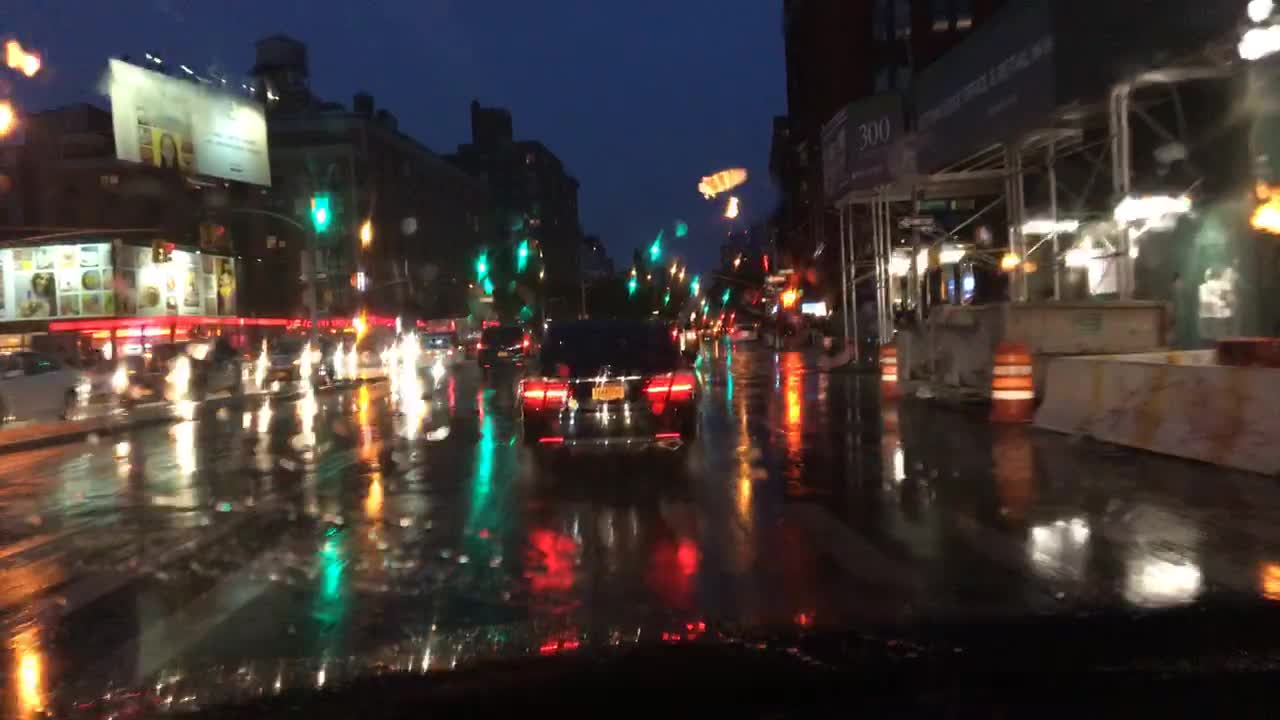car: (517, 320, 703, 472), (0, 347, 93, 421), (140, 343, 242, 403), (254, 332, 340, 381), (72, 358, 136, 409), (476, 325, 538, 373), (344, 334, 413, 369), (413, 332, 467, 366), (668, 322, 700, 353), (726, 322, 758, 343), (463, 333, 483, 361), (699, 323, 721, 342)
traffic light: (311, 194, 328, 229), (209, 221, 224, 249), (198, 223, 207, 250), (516, 243, 528, 263), (161, 242, 173, 261), (475, 255, 486, 274), (151, 239, 160, 262), (675, 222, 686, 235), (650, 243, 660, 256), (628, 280, 635, 292), (689, 280, 697, 288), (722, 292, 729, 301)
traffic sign: (897, 217, 933, 226), (919, 199, 942, 210), (765, 275, 785, 282), (478, 296, 492, 302)
